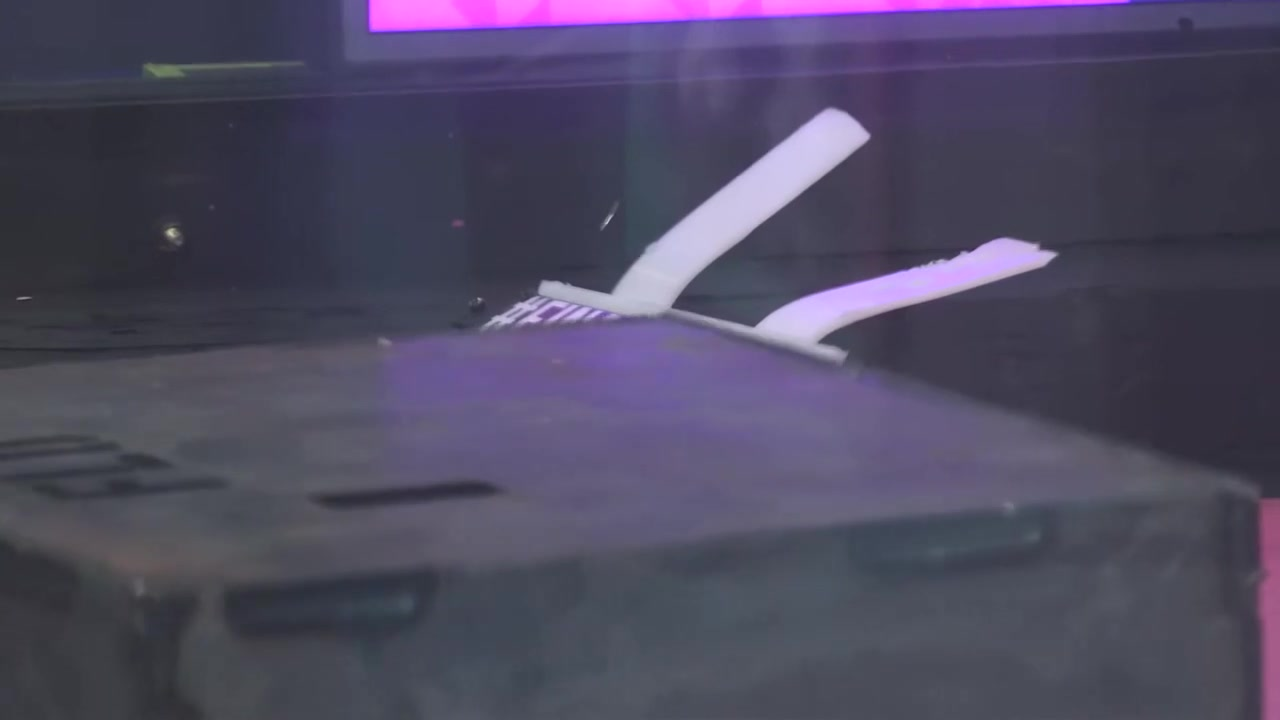housebot: (0, 320, 1263, 720)
